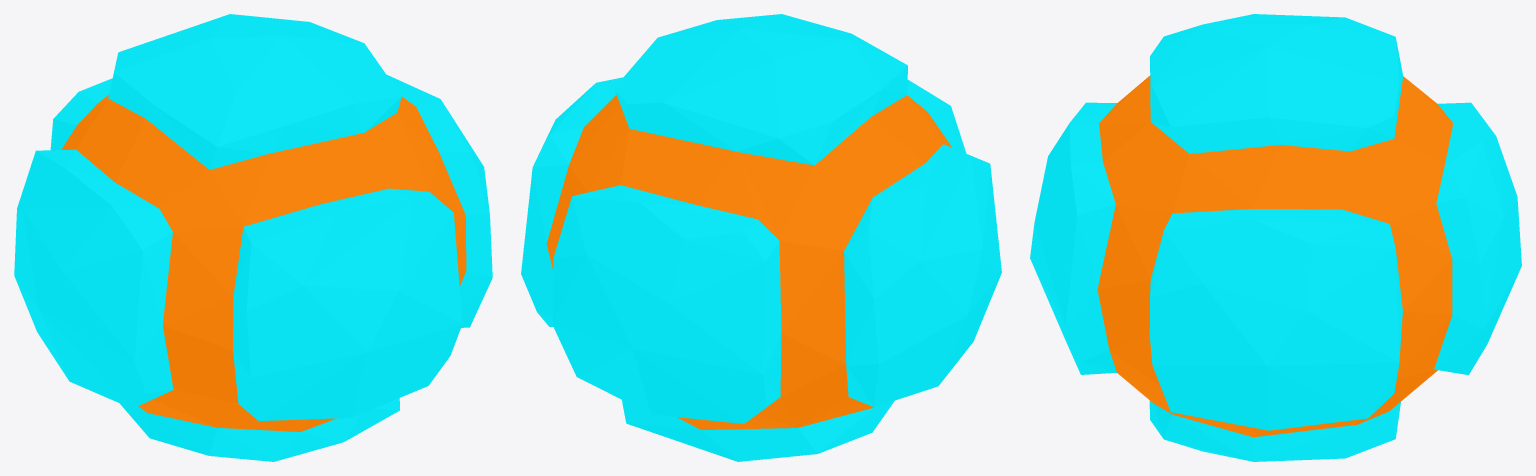
Rendered from shield.glb.
3 renders of one model, left to right at view 1: azimuth 30°, elevation 25°; view 2: azimuth 150°, elevation 25°; view 3: azimuth 270°, elevation 25°, orthographic.
Parts seen in each view (by area): view 1: shield; view 2: shield; view 3: shield.
Part boxes in pixels (x1=…): shield: x1=14, y1=14, x2=492, y2=461; shield: x1=521, y1=14, x2=1001, y2=461; shield: x1=1030, y1=14, x2=1521, y2=461.
Bounding box in the file's own units: 2.54 × 2.3 × 2.54.
